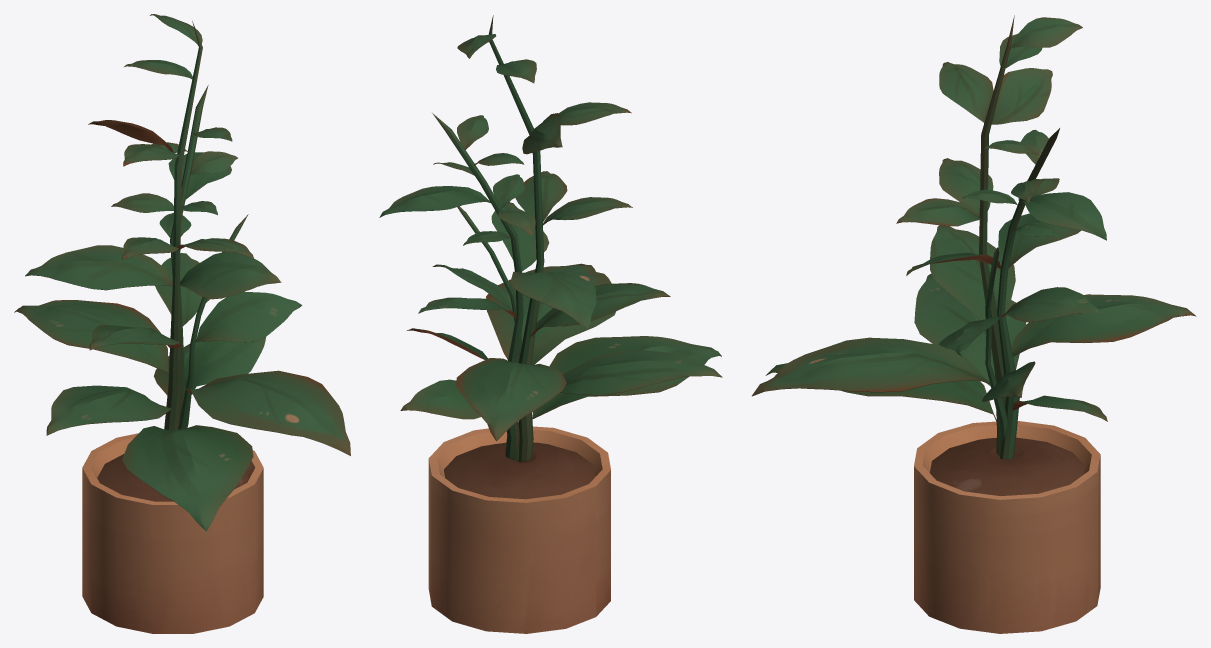
File: Plant.fbx
The picture shows the model from 3 angles, left to right: view 1: azimuth 30°, elevation 25°; view 2: azimuth 150°, elevation 25°; view 3: azimuth 270°, elevation 25°; orthographic projection. The views are drawn at different scales.
Parts seen in each view (by area): view 1: Cylinder.034; view 2: Cylinder.034; view 3: Cylinder.034.
Boxes of the visible parts, x1,y1,x2,y2 form: Cylinder.034: [14, 14, 350, 633]; Cylinder.034: [379, 15, 722, 633]; Cylinder.034: [752, 15, 1196, 633].
Size of the model in its own units: 156 by 313 by 214.
